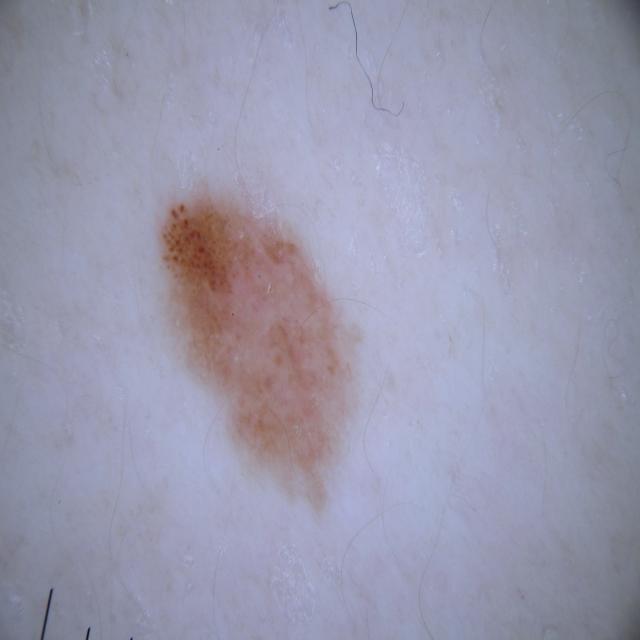Skin-Cancer Nevus: (117, 63, 507, 563)
